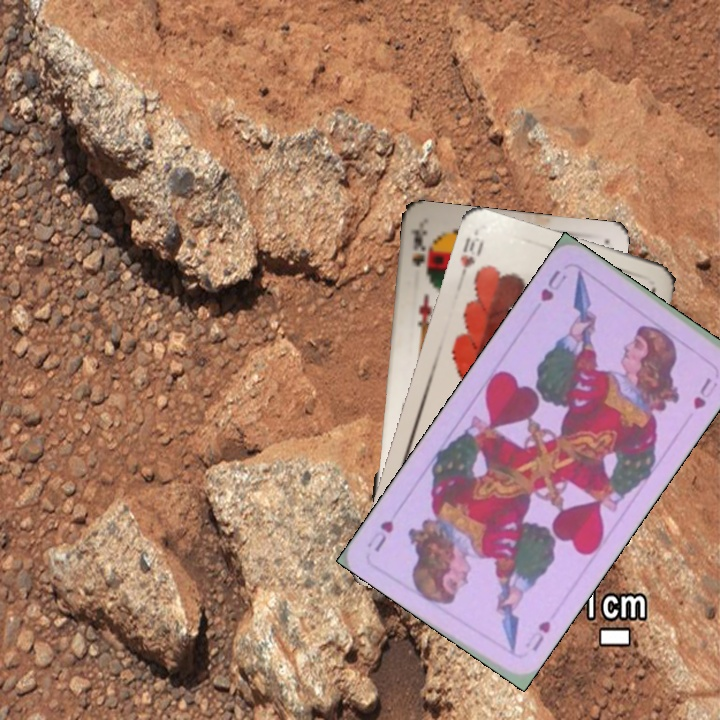H10: (454, 229, 487, 287)
HU: (536, 265, 569, 304), (522, 616, 554, 654)
SK: (407, 225, 433, 278)
